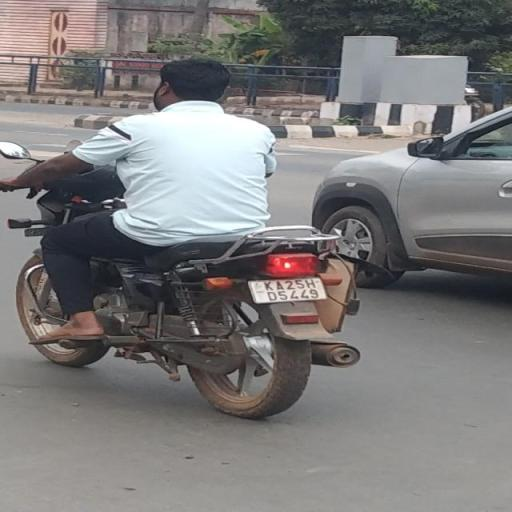bike: (4, 52, 381, 419)
numberplate: (244, 272, 330, 306)
withouthelmet: (158, 59, 233, 101)
